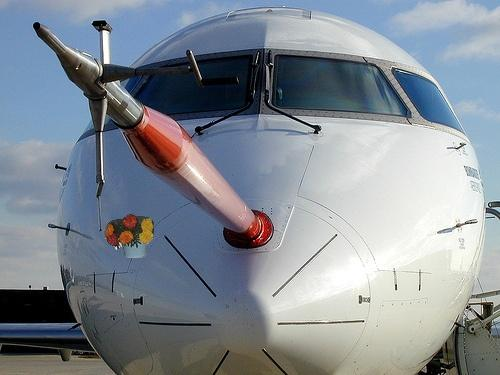tampered: (105, 215, 154, 258)
